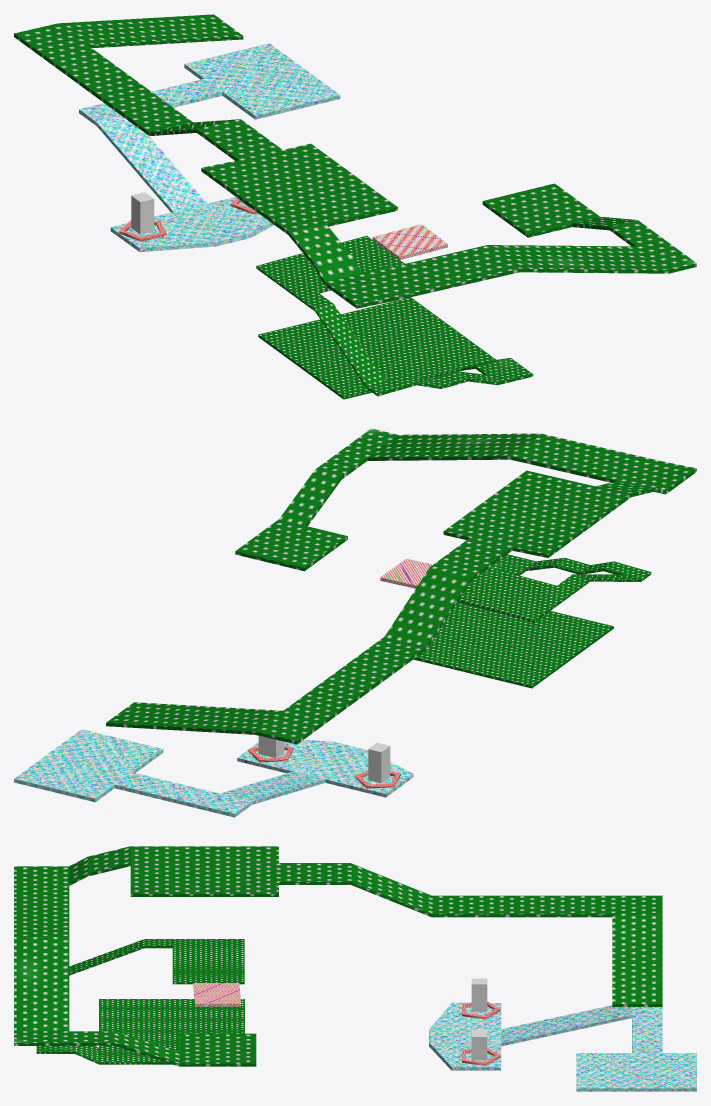
Rendered from Level1.FBX.
3 renders of one model, top to bottom at view 1: azimuth 30°, elevation 25°; view 2: azimuth 150°, elevation 25°; view 3: azimuth 270°, elevation 25°, orthographic. The views are drawn at different scales.
Visible parts, largest first — view 1: PartD, PartB, PartA, PartC, TriggerBox_JumpToLevel3; view 2: PartD, PartB, PartA, PartC, TriggerBox_JumpToLevel3; view 3: PartD, PartA, PartB, PartC, TriggerBox_JumpToLevel3, TriggerBox_JumpToLevel2.
Boxes of the visible parts, x1,y1,x2,y2 form: PartD: (14, 14, 696, 308); PartB: (256, 235, 533, 399); PartA: (79, 43, 340, 251); PartC: (372, 224, 447, 259); TriggerBox_JumpToLevel3: (131, 192, 154, 234); PartD: (106, 428, 696, 744); PartB: (413, 554, 651, 688); PartA: (14, 729, 413, 817); PartC: (380, 558, 432, 588); TriggerBox_JumpToLevel3: (368, 742, 390, 783); PartD: (14, 846, 662, 1066); PartA: (429, 1002, 696, 1091); PartB: (36, 939, 244, 1064); PartC: (193, 983, 241, 1006); TriggerBox_JumpToLevel3: (471, 978, 487, 1011); TriggerBox_JumpToLevel2: (471, 1029, 487, 1060).
Size of the model in its own units: 138 by 65.12 by 281.
4 materials, 4 textured.
